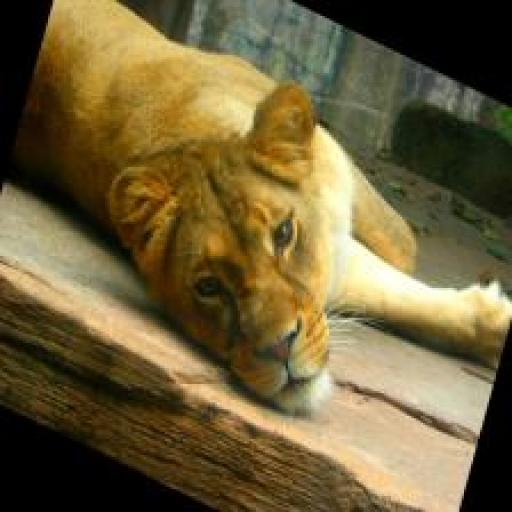lion: (0, 0, 512, 510)
